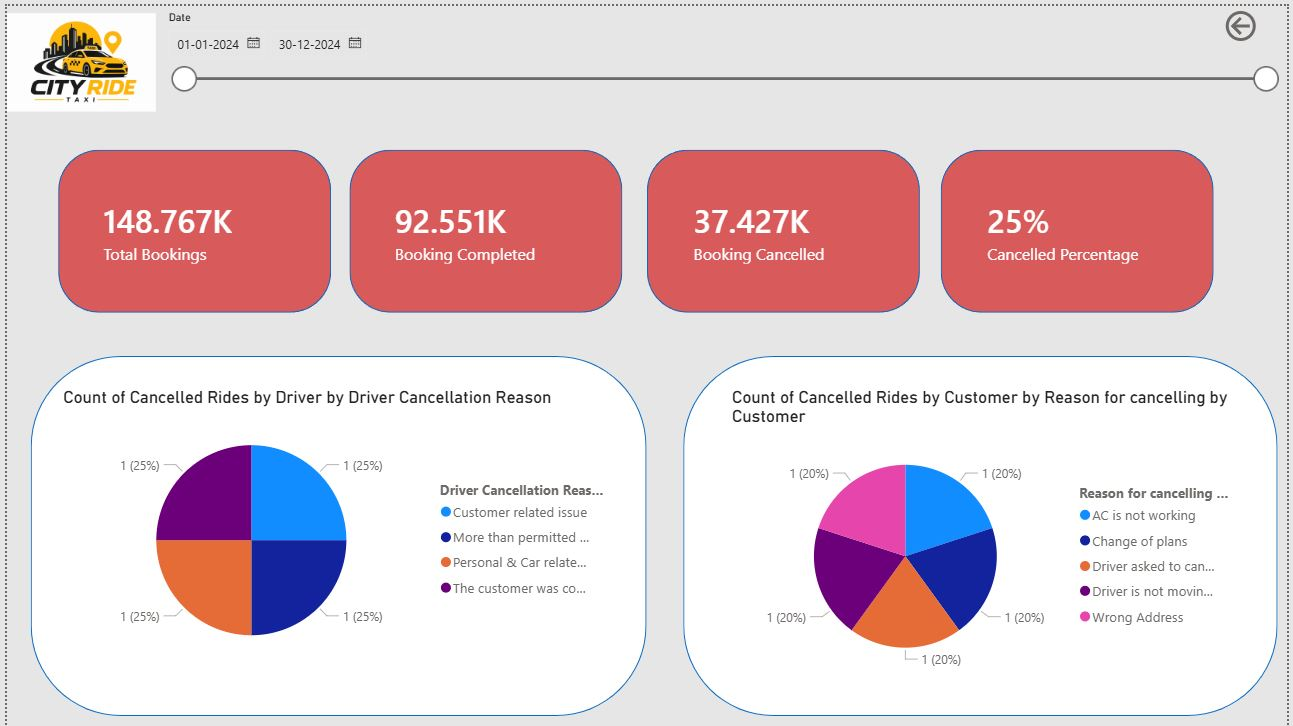

The page's visual inventory and layout, read from the dashboard file:
{"tool":"powerbi","page":{"name":"Cancellation","canvas":[1280,720],"ordinal":4},"visuals":[{"type":"shape","box":[675.7,350,594.3,360],"z":0},{"type":"shape","box":[24.3,350,615.7,360],"z":1000},{"type":"shape","box":[934.3,144.3,272.9,162.9],"z":2000},{"type":"shape","box":[640,144.3,272.9,162.9],"z":3000},{"type":"shape","box":[342.9,144.3,272.9,162.9],"z":4000},{"type":"shape","box":[51.4,144.3,272.9,162.9],"z":5000},{"type":"pieChart","fields":{"Y":["Count(rideBookings.Cancelled Rides by Customer)"],"Category":["rideBookings.Reason for cancelling by Customer"]},"box":[720,381.4,507.1,300],"z":6000},{"type":"pieChart","fields":{"Y":["Count(rideBookings.Cancelled Rides by Driver)"],"Category":["rideBookings.Driver Cancellation Reason"]},"box":[51.4,381.4,548.6,287.1],"z":7000},{"type":"slicer","fields":{"Values":["rideBookings.Date"]},"box":[148.6,0,1131.4,112.9],"z":8000},{"type":"cardVisual","fields":{"Data":["Count(rideBookings.Booking ID)"]},"box":[67.1,162.9,242.9,125.7],"z":9000},{"type":"cardVisual","fields":{"Data":["Count(rideBookings.Booking ID)"]},"box":[358.6,162.9,241.4,125.7],"z":10000},{"type":"cardVisual","fields":{"Data":["Count(rideBookings.Booking ID)"]},"box":[657.1,162.9,241.4,125.7],"z":11000},{"type":"cardVisual","fields":{"Data":["rideBookings.CancelledPercentage"]},"box":[951.4,162.9,241.4,125.7],"z":12000},{"type":"image","box":[0,0,148.6,112.9],"z":13000},{"type":"actionButton","box":[1213.8,0,66.2,40],"z":14000}]}

Visuals, with their boxes in screenshot pixels (x1, y1, x2, y2), scaled from the page's 1280x720 canvas onto the 1293x726 screenshot:
shape: x1=683 y1=353 x2=1283 y2=716
shape: x1=25 y1=353 x2=646 y2=716
shape: x1=944 y1=146 x2=1219 y2=310
shape: x1=646 y1=146 x2=922 y2=310
shape: x1=346 y1=146 x2=622 y2=310
shape: x1=52 y1=146 x2=328 y2=310
pieChart - Count(rideBookings.Cancelled Rides by Customer) x rideBookings.Reason for cancelling by Customer: x1=727 y1=385 x2=1240 y2=687
pieChart - Count(rideBookings.Cancelled Rides by Driver) x rideBookings.Driver Cancellation Reason: x1=52 y1=385 x2=606 y2=674
slicer - rideBookings.Date: x1=150 y1=0 x2=1292 y2=114
cardVisual - Count(rideBookings.Booking ID): x1=68 y1=164 x2=313 y2=291
cardVisual - Count(rideBookings.Booking ID): x1=362 y1=164 x2=606 y2=291
cardVisual - Count(rideBookings.Booking ID): x1=664 y1=164 x2=908 y2=291
cardVisual - rideBookings.CancelledPercentage: x1=961 y1=164 x2=1205 y2=291
image: x1=0 y1=0 x2=150 y2=114
actionButton: x1=1226 y1=0 x2=1292 y2=40
